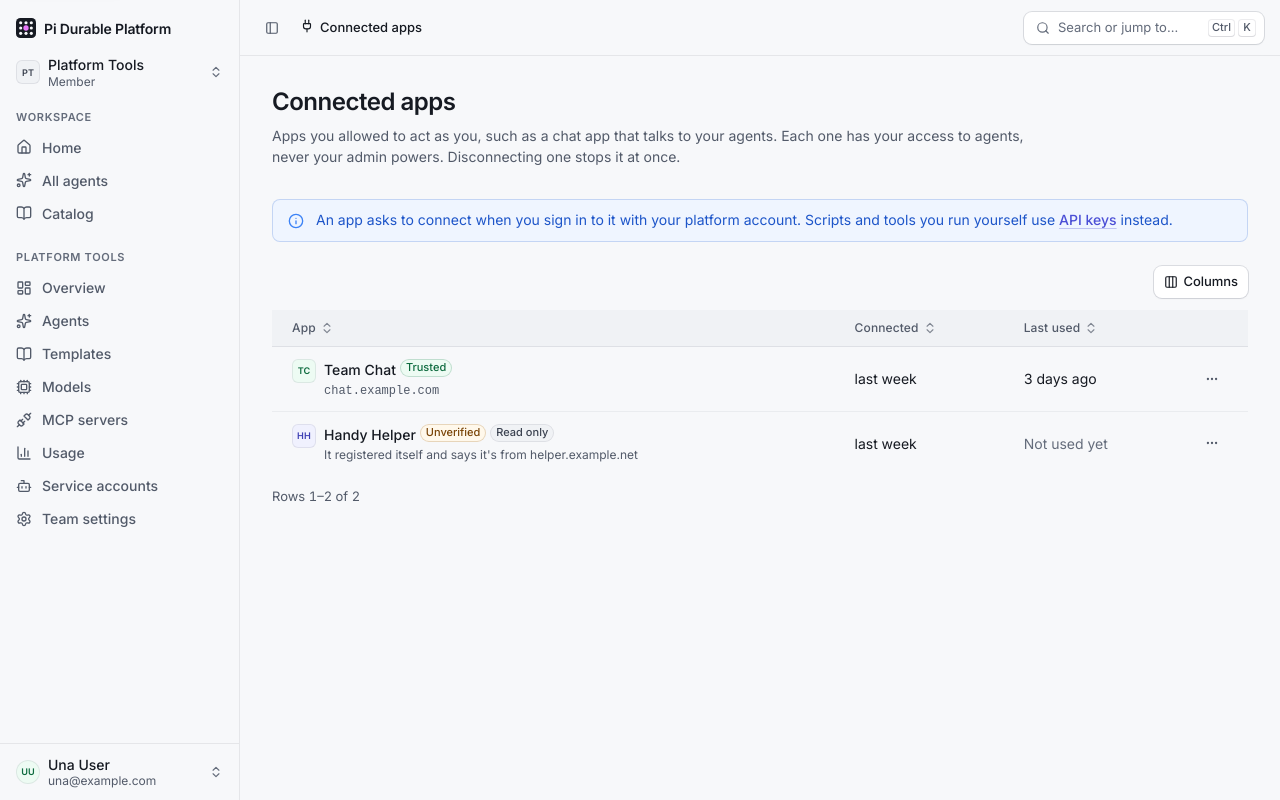
it: Account › Connected apps › disconnects an app only after confirming
Click the button named "Actions for Team Chat": (1212, 379) left=1196, top=363, right=1228, bottom=395
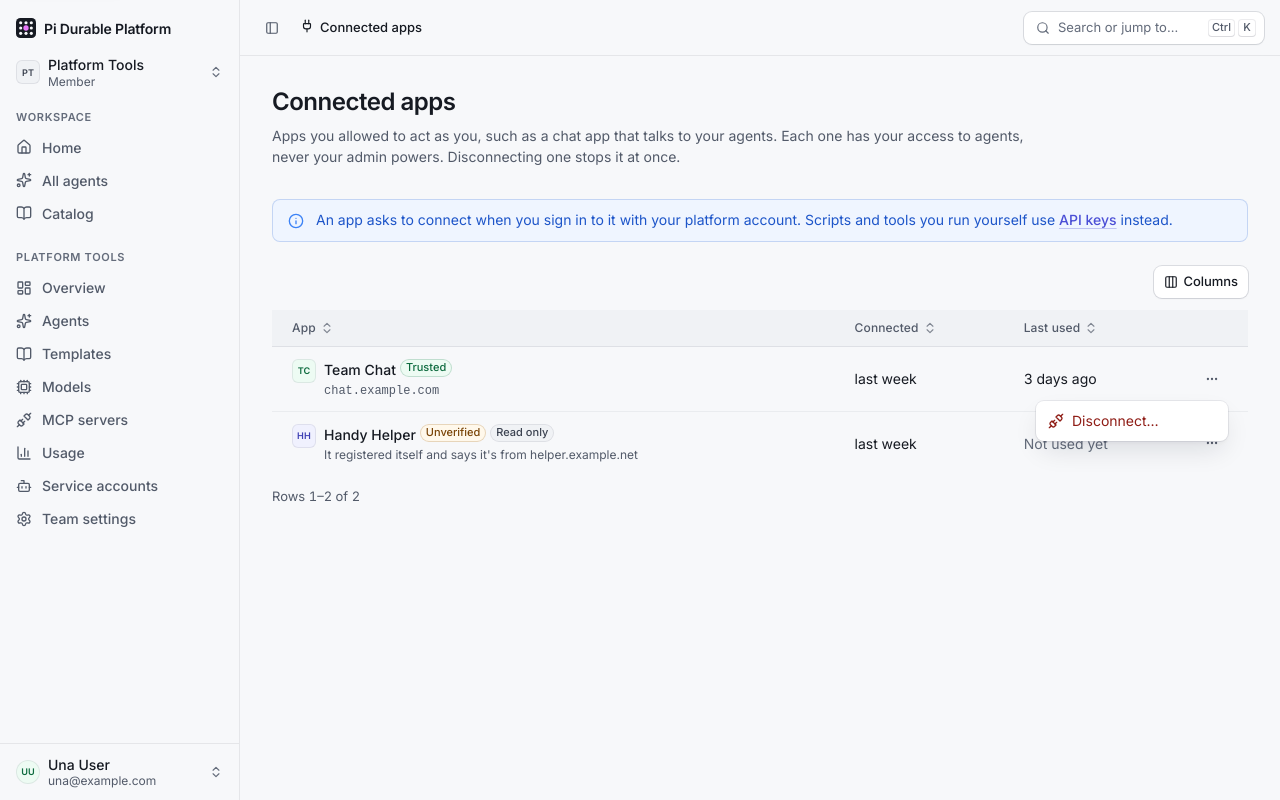
Click the menu item "Disconnect…": (1103, 420) left=1048, top=412, right=1159, bottom=429
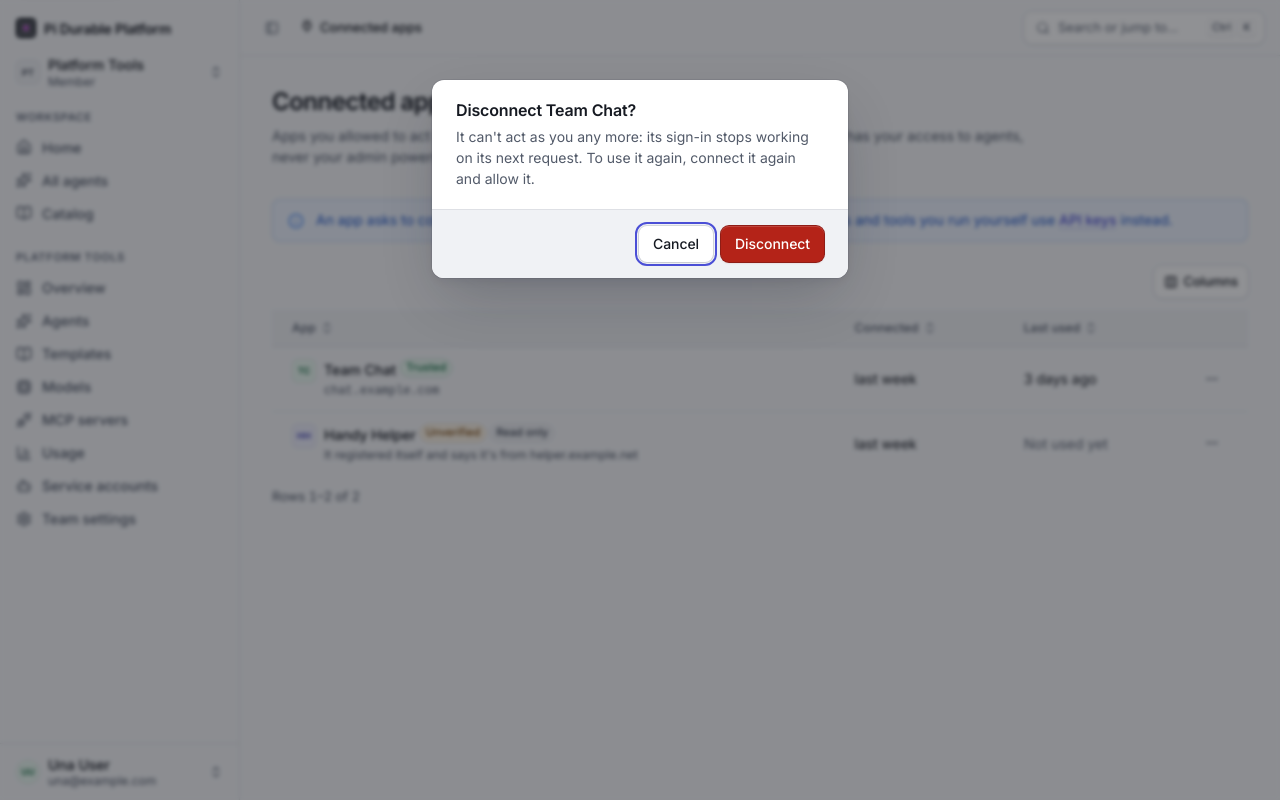
Now the dialog "Disconnect Team Chat?" shows "It can't act as you any more", box left=456, top=128, right=809, bottom=187
Click the button "Disconnect": (773, 244) left=721, top=226, right=824, bottom=262
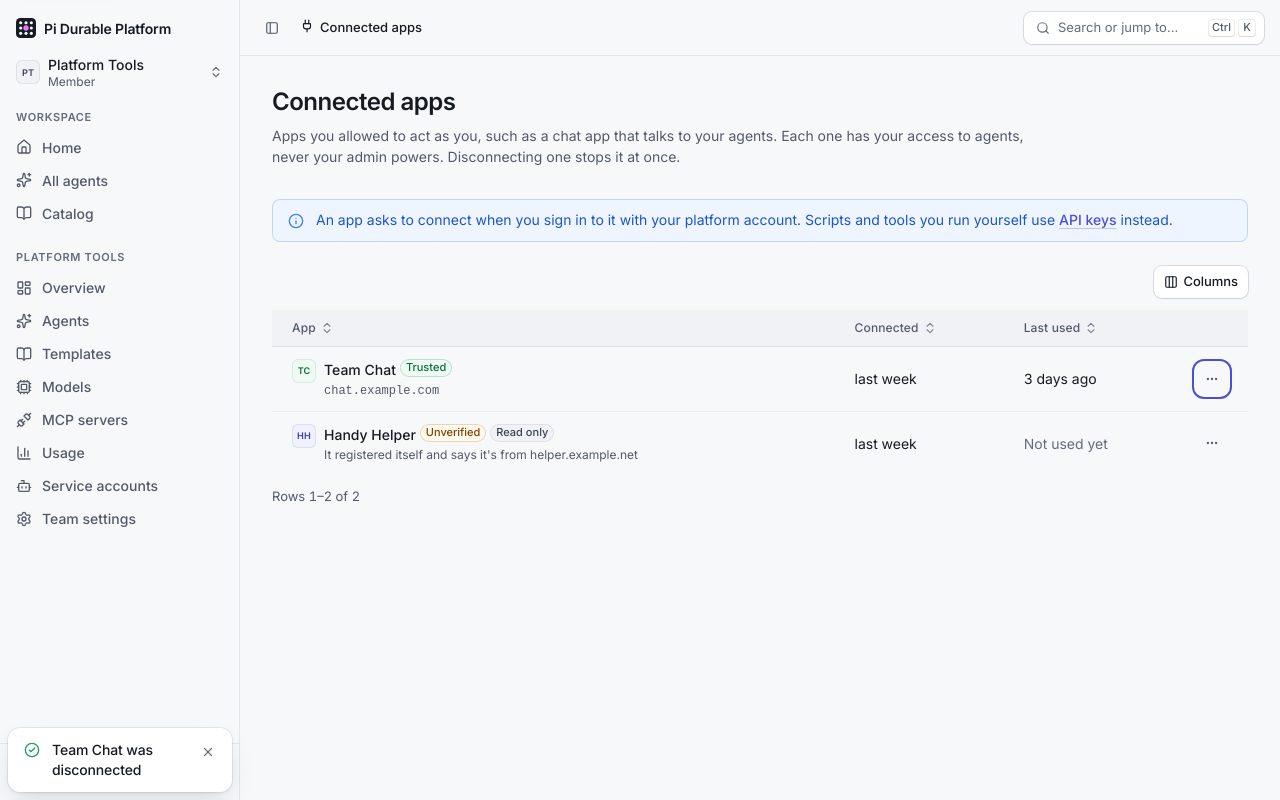
Now the heading "Team Chat was disconnected" is shown, box left=52, top=741, right=153, bottom=778
